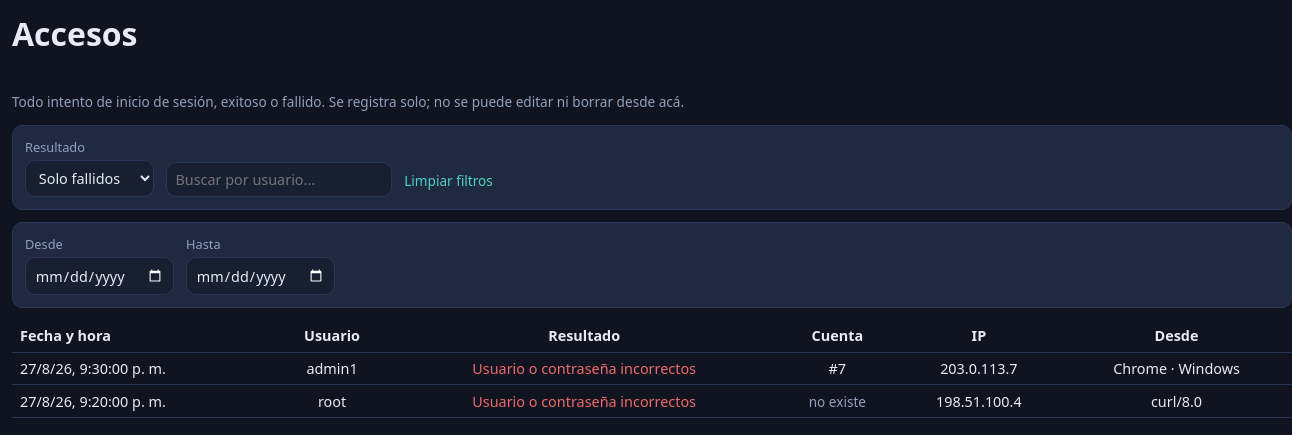
Scenario: AccesosAdminPage › busca por usuario contra el servidor
Expected: the text "root" is shown, [274, 385, 390, 418]
Type "root" into the search field named "Buscar usuario" at (279, 180), box [166, 162, 392, 197]
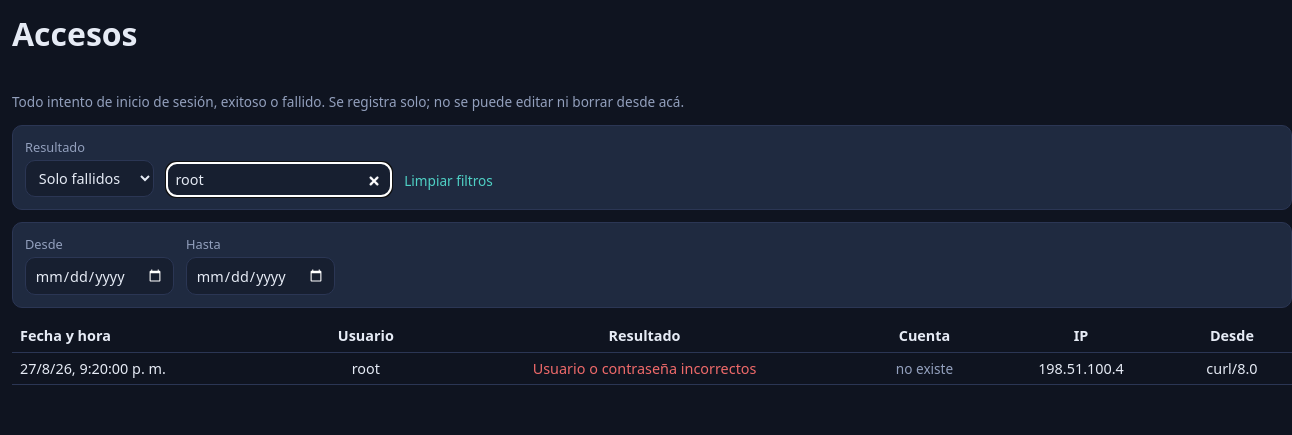
Expected: the text "root" is shown, [301, 352, 430, 385]
Now the text "admin1" is gone
